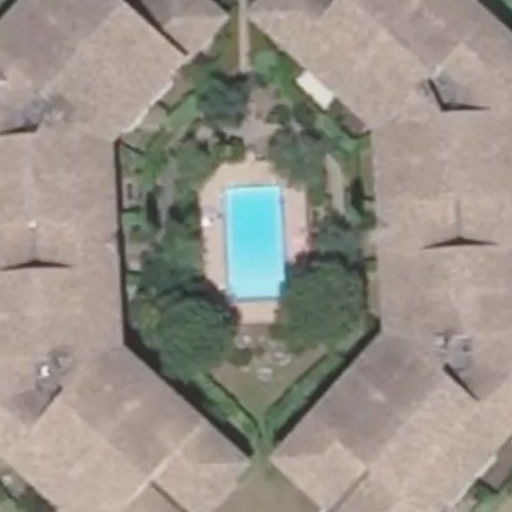pool: (225, 187, 286, 297)
